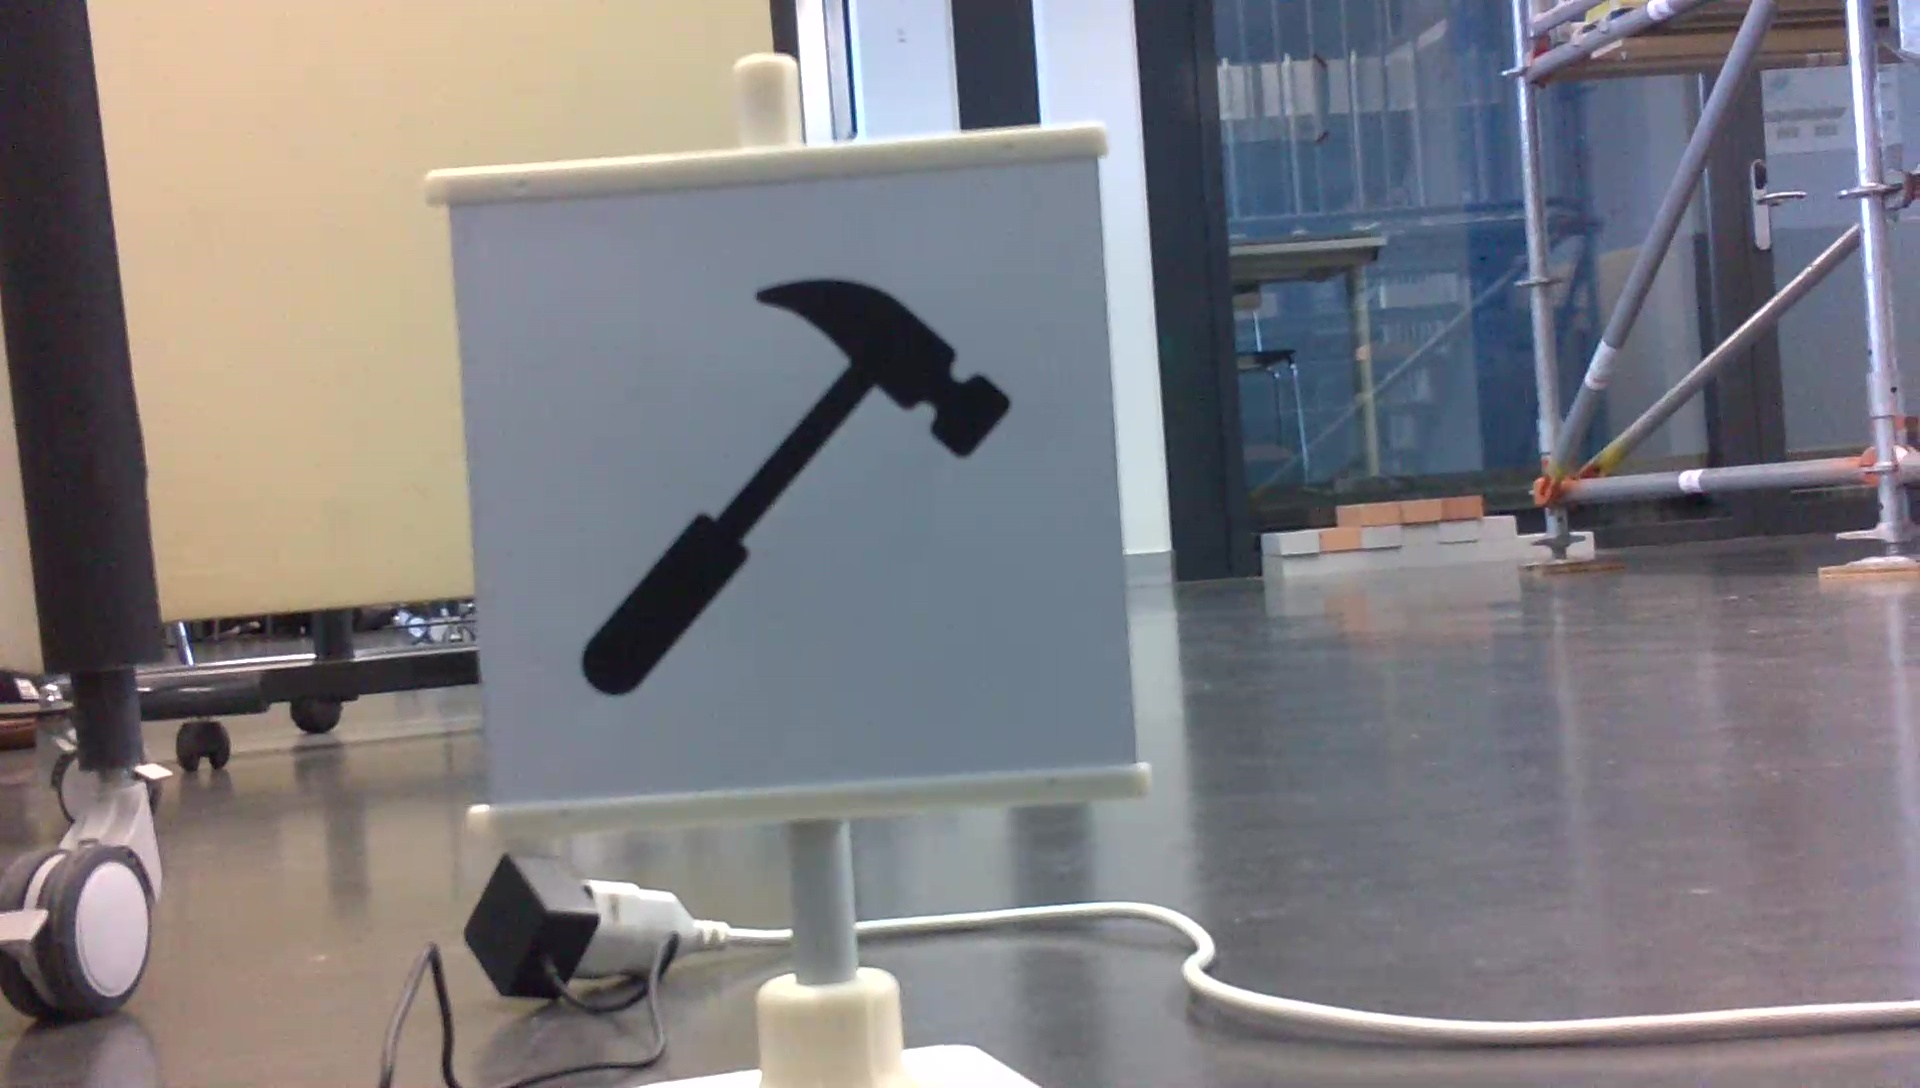hammer: (567, 265, 1025, 702)
